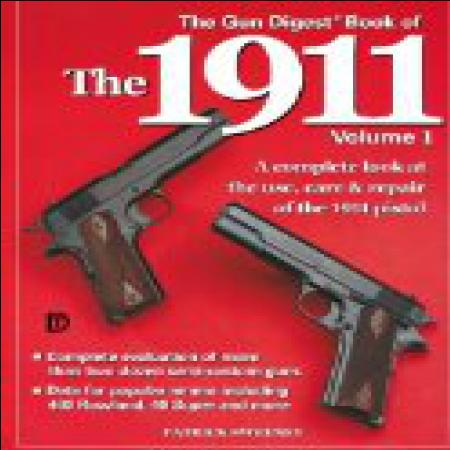Pistol: (196, 194, 428, 425), (26, 101, 233, 321)
